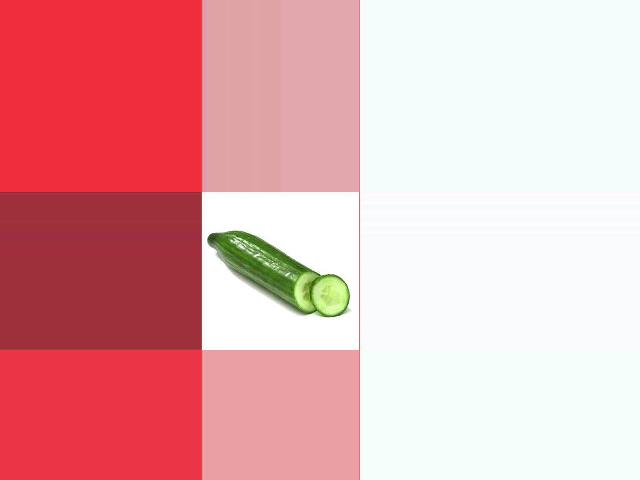cucumber: (207, 231, 322, 314)
